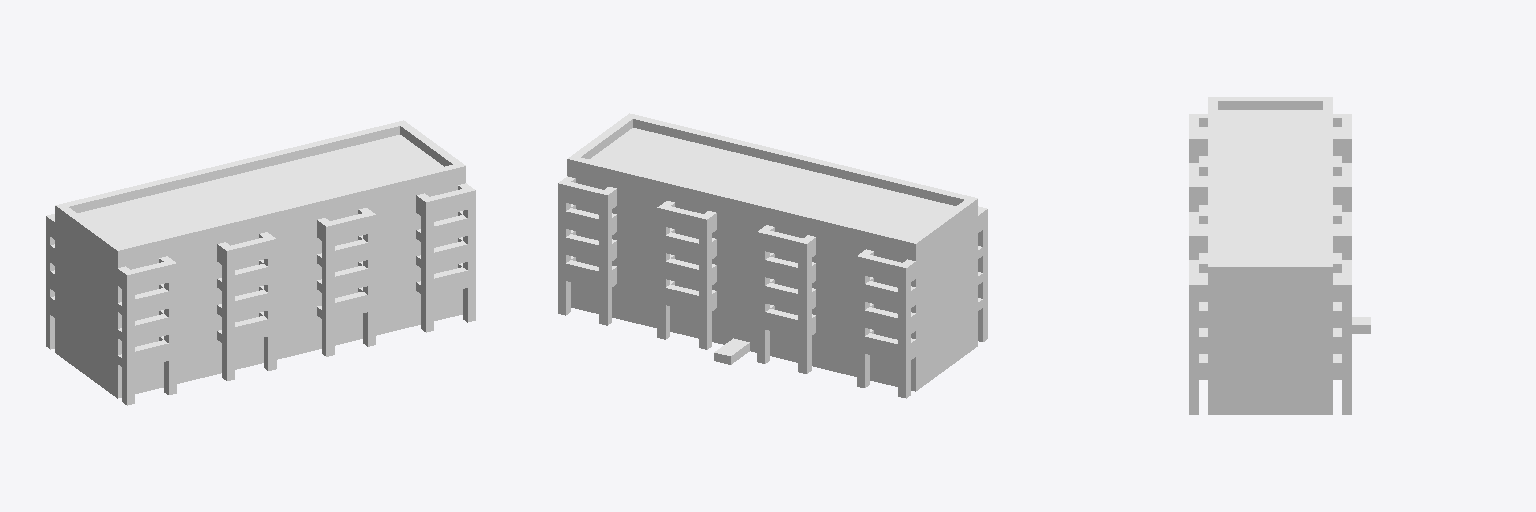
File: apartement-building-with-balcony.obj
3 views of the same model, side by side, from view 1: azimuth 30°, elevation 25°; view 2: azimuth 150°, elevation 25°; view 3: azimuth 270°, elevation 25° (orthographic).
Parts seen in each view (by area): view 1: apartement-building-with-balcony; view 2: apartement-building-with-balcony; view 3: apartement-building-with-balcony.
Boxes of the visible parts, <box> form: apartement-building-with-balcony: <box>46,120,475,405</box>; apartement-building-with-balcony: <box>558,113,987,398</box>; apartement-building-with-balcony: <box>1189,97,1370,414</box>.
Bounding box in the file's own units: 42 × 17 × 19.